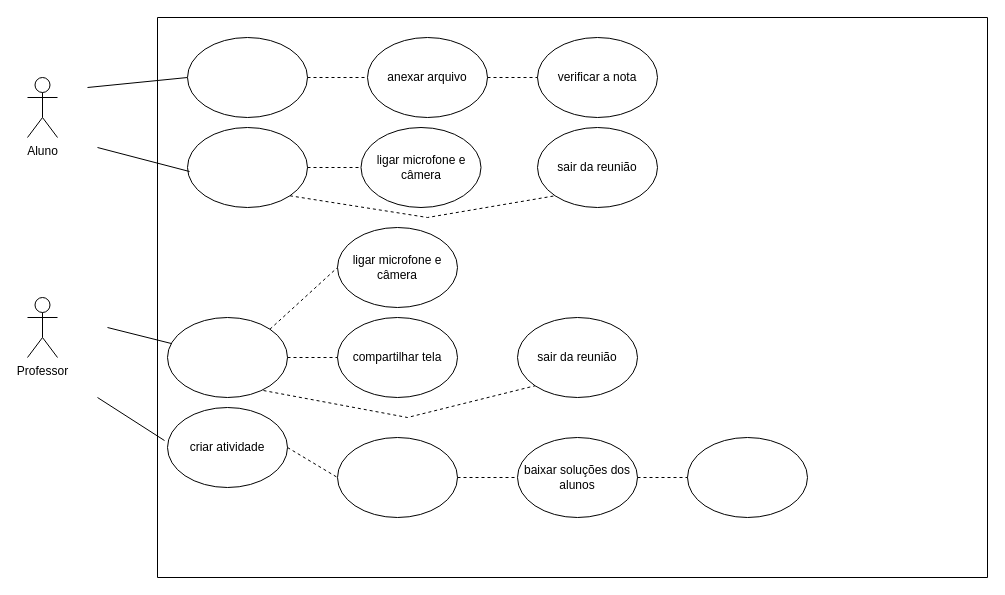
Image size: 1005x595. Some labels were removed from this diagram. Each missing label, with the box of its shape:
criar reunião: (166, 316, 288, 398)
ingressar na reunião: (186, 126, 308, 208)
postar atividade: (336, 436, 458, 518)
postar nota: (686, 436, 808, 518)
postar solução: (186, 36, 308, 118)
